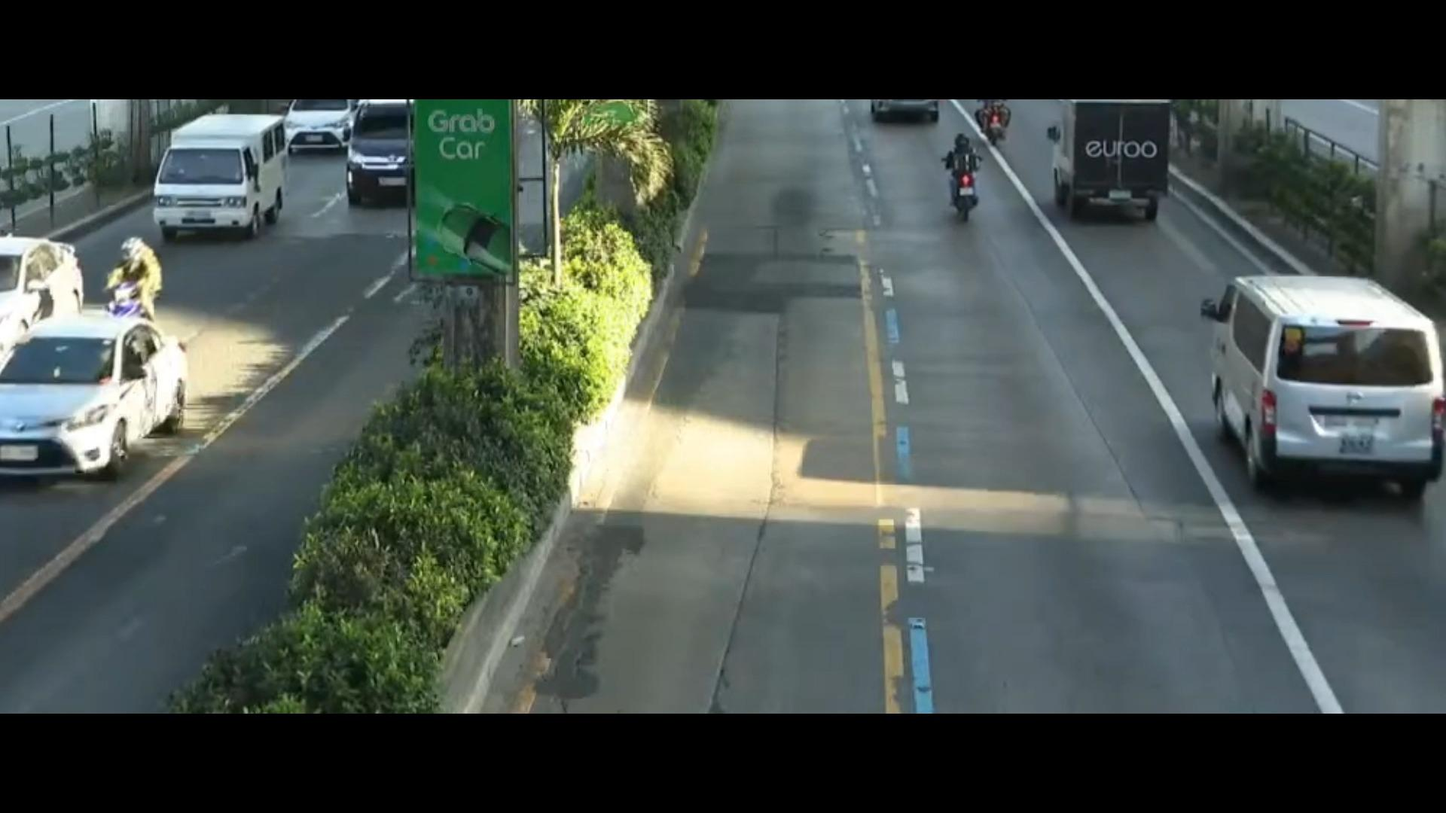Motorcycle: (924, 134, 1010, 244), (97, 238, 160, 319), (971, 99, 1038, 134)
Multicab: (126, 102, 294, 265)
SUV: (337, 99, 421, 207)
Sedan: (0, 330, 209, 476), (0, 219, 98, 343)
Truck: (1038, 91, 1197, 235)
Van: (1164, 239, 1446, 500)
